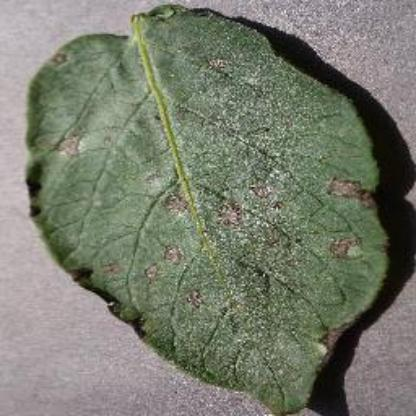Early-Blight: (26, 4, 400, 412)
